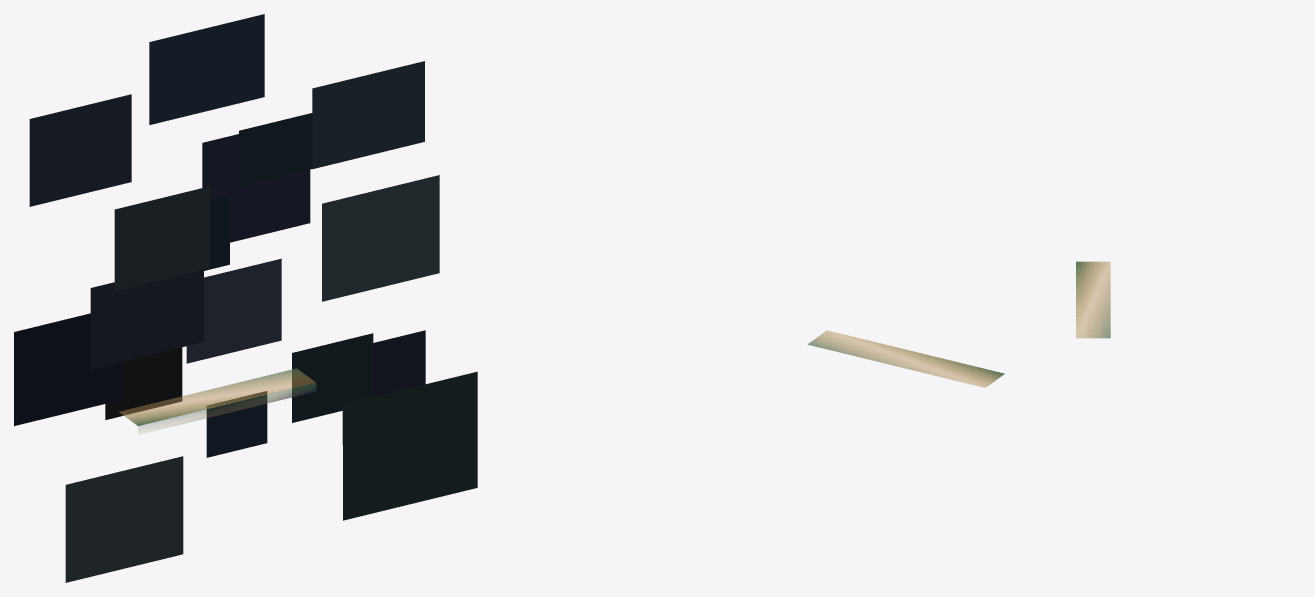
Rendered from PlatformJigglypuff.glb.
3 views of the same model, side by side, from view 1: azimuth 30°, elevation 25°; view 2: azimuth 150°, elevation 25°; view 3: azimuth 270°, elevation 25° (orthographic). The views are drawn at different scales.
Parts seen in each view (by area): view 1: PlatformJigglypuff_Alpha_1, PlatformJigglypuff_Alpha_138; view 2: PlatformJigglypuff_Alpha_138; view 3: PlatformJigglypuff_Alpha_138.
Boxes of the visible parts, x1=… form: PlatformJigglypuff_Alpha_1: x1=14, y1=14, x2=477, y2=582; PlatformJigglypuff_Alpha_138: x1=119, y1=368, x2=316, y2=434; PlatformJigglypuff_Alpha_138: x1=807, y1=330, x2=1004, y2=387; PlatformJigglypuff_Alpha_138: x1=1076, y1=261, x2=1110, y2=338.
Bounding box in the file's own units: 1875 × 1875 × 974.
Materials: 407 (407 with a texture image).
